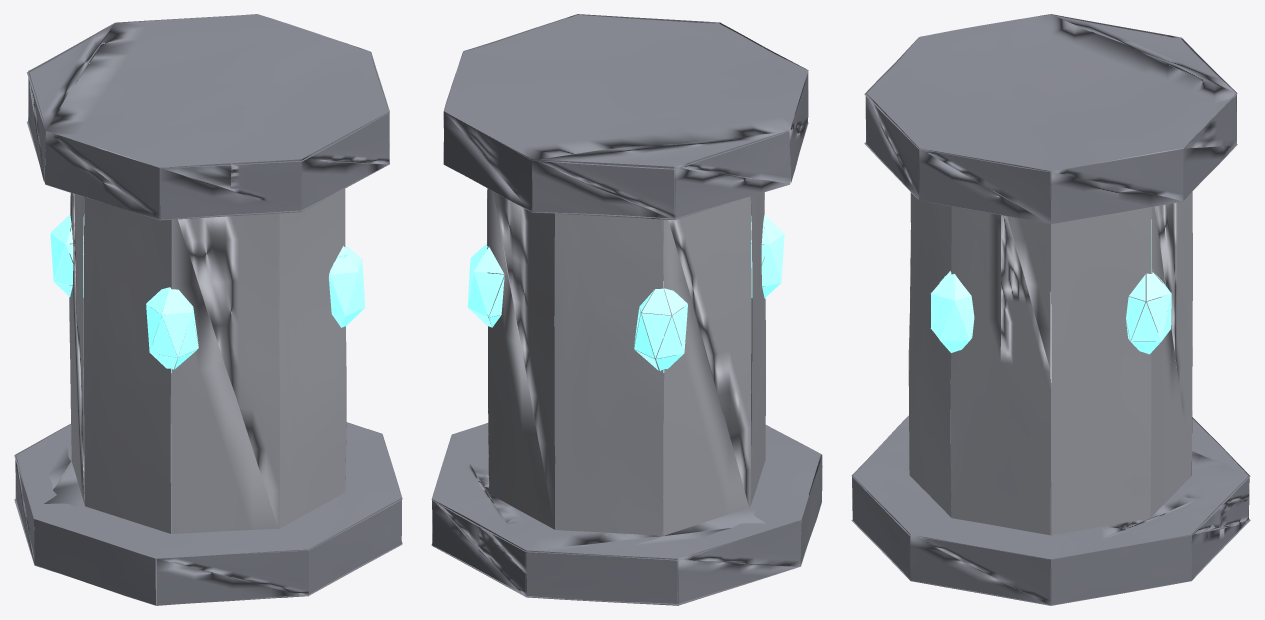
Rendered from pedestal.glb.
3 views of the same model, side by side, from view 1: azimuth 30°, elevation 25°; view 2: azimuth 150°, elevation 25°; view 3: azimuth 270°, elevation 25° (orthographic).
Parts seen in each view (by area): view 1: PedestalFoot; view 2: PedestalFoot; view 3: PedestalFoot.
Part boxes in pixels (x1,y1,x2,y2): PedestalFoot: [14, 14, 402, 605]; PedestalFoot: [431, 14, 822, 605]; PedestalFoot: [851, 14, 1250, 605].
Bounding box in the file's own units: 1.24 × 1.48 × 1.24.
